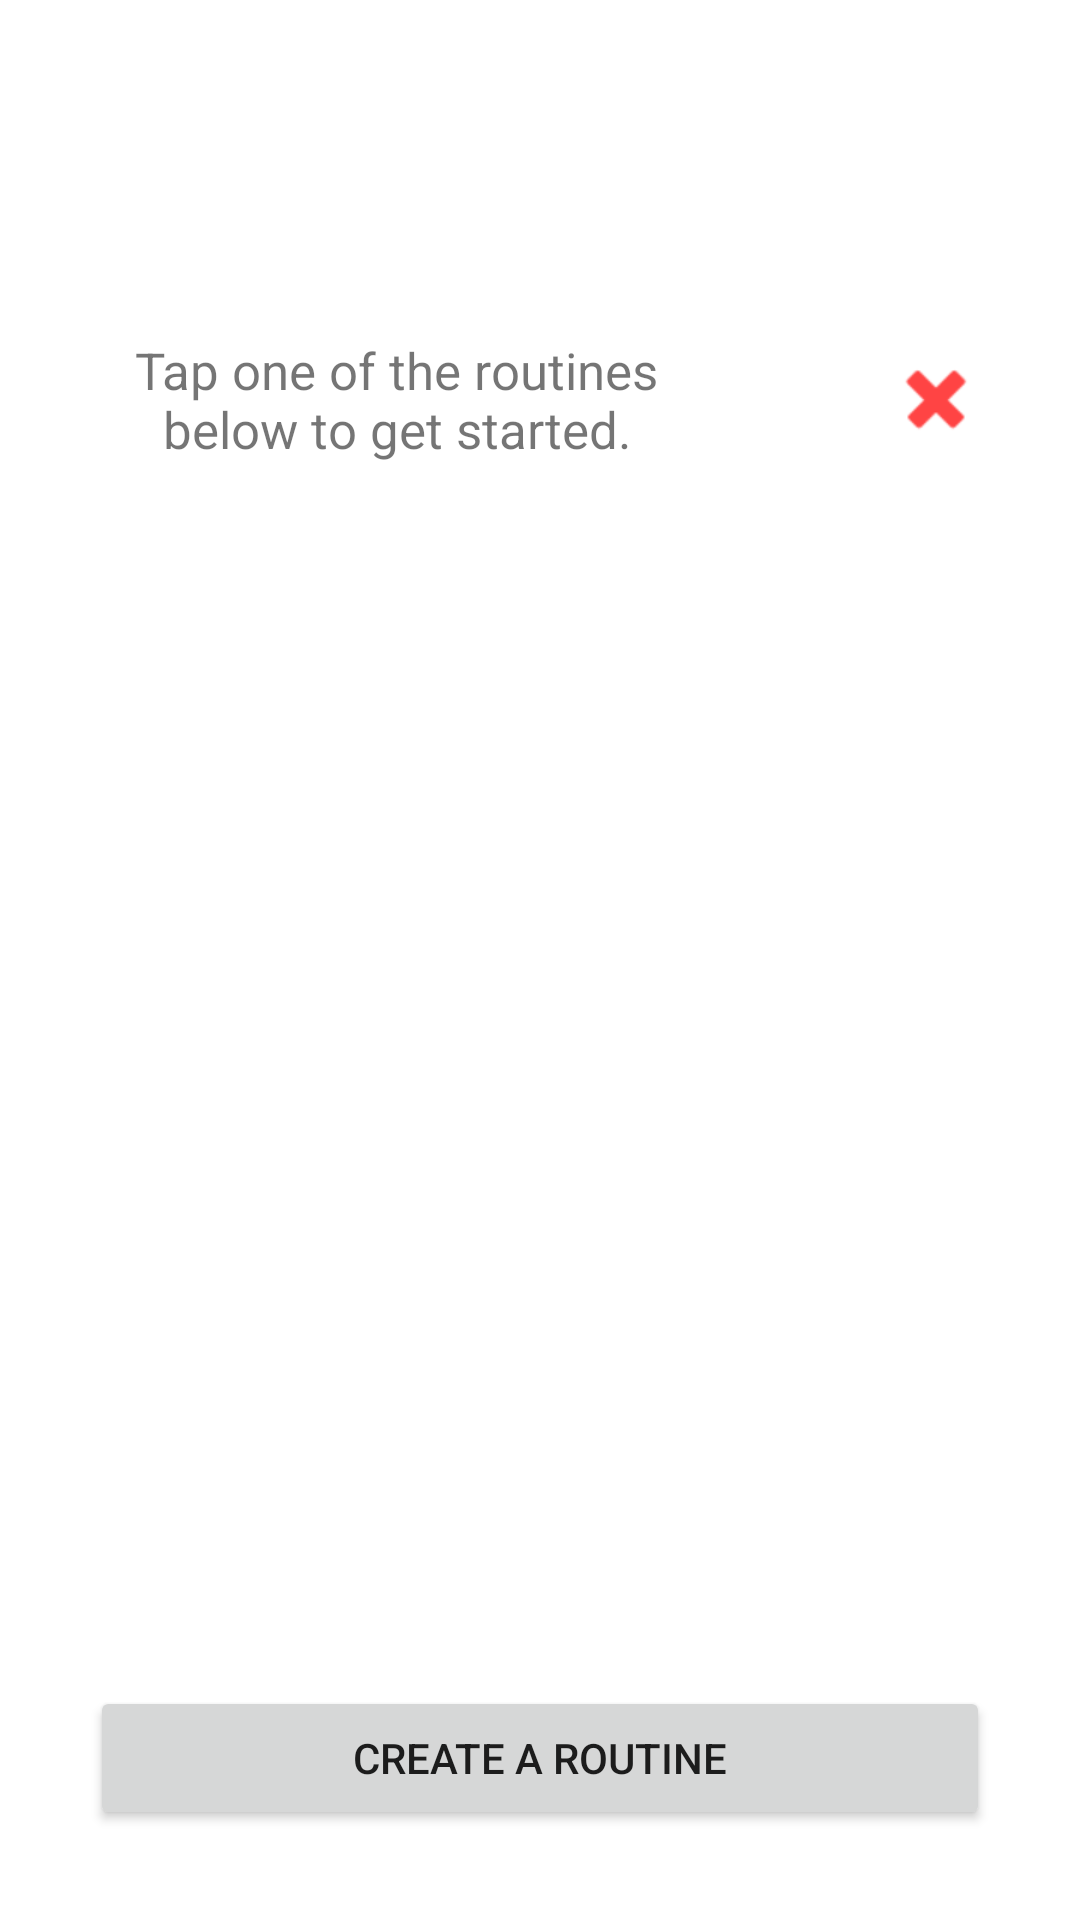

Point at icon controls on the screen. Image size 1080x1920, points as (x=x, y=y).
delete: (x=936, y=399)
